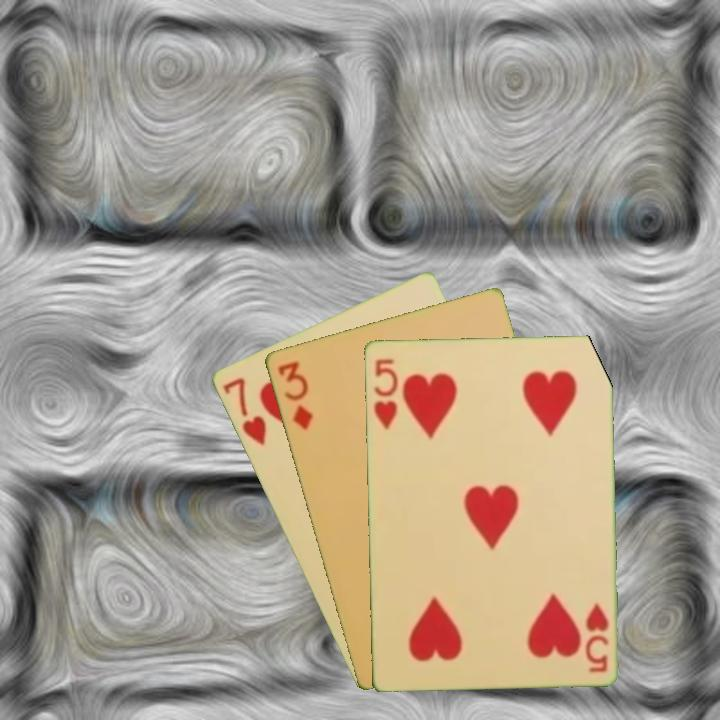3d: (273, 357, 316, 433)
5h: (369, 354, 400, 432), (581, 599, 611, 675)
7h: (218, 373, 269, 448)
